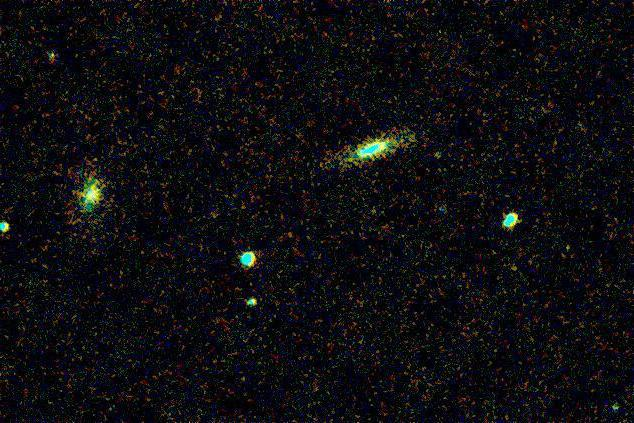star: (425, 140, 455, 170)
